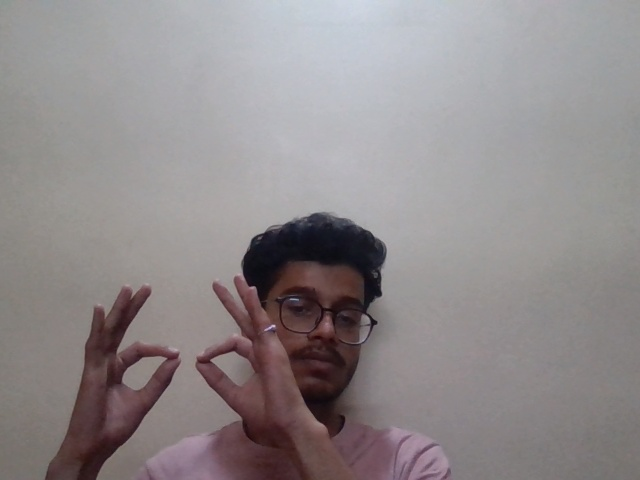nice: (67, 281, 355, 473)
